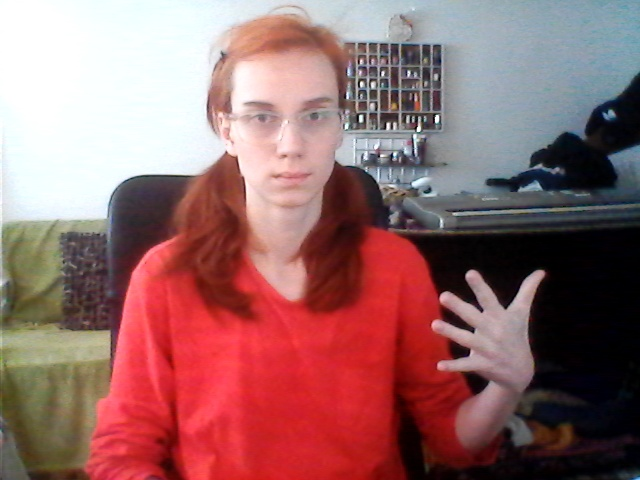pat: (424, 267, 548, 388)
